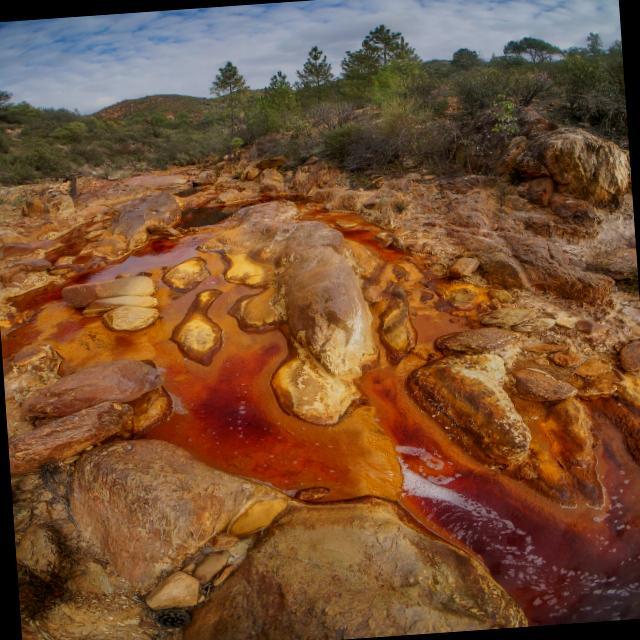yellow_boy: (2, 221, 640, 626), (302, 209, 404, 262), (415, 309, 464, 342), (205, 206, 215, 215), (205, 206, 209, 209)
